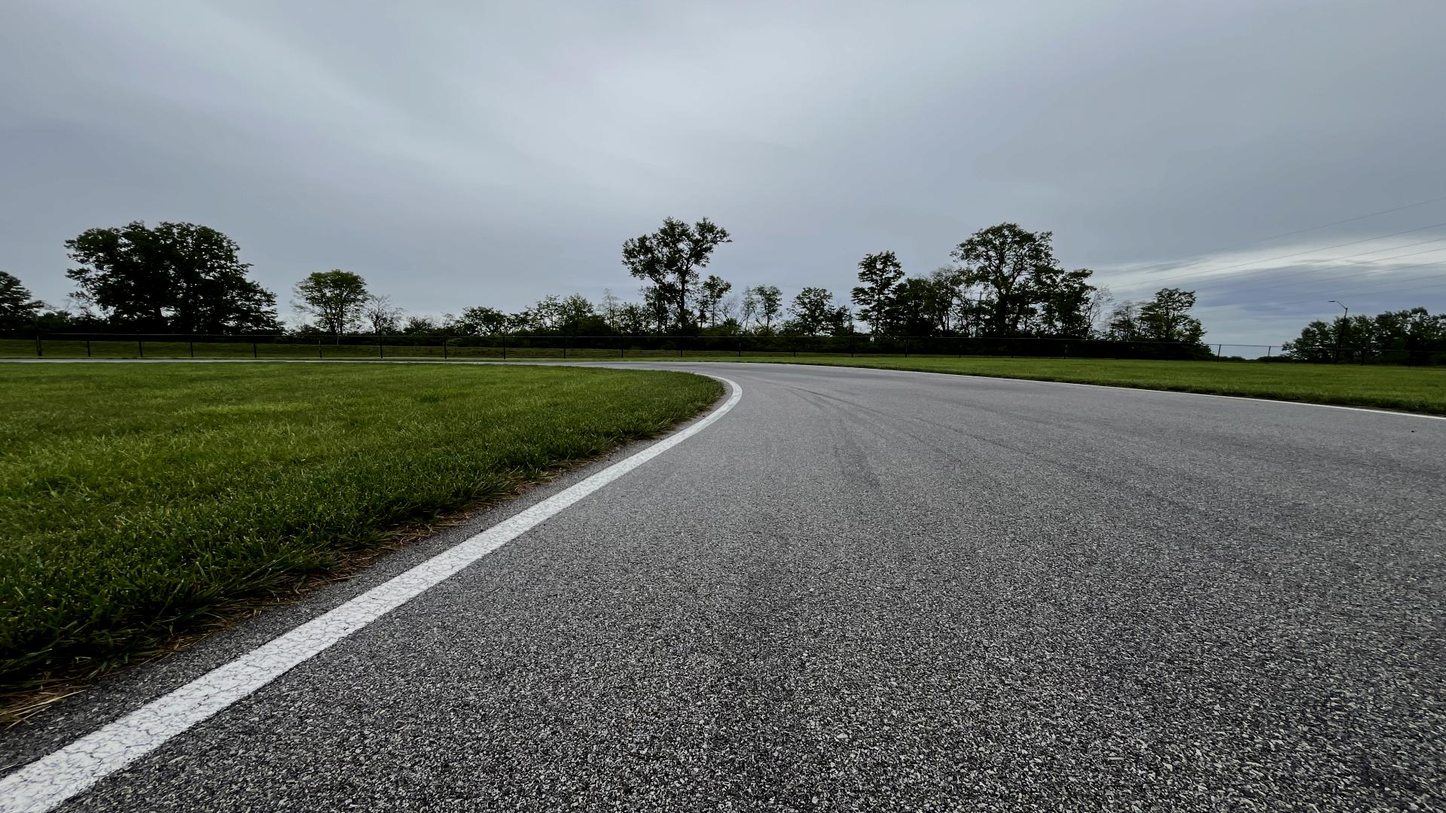white-line: (0, 419, 716, 812), (1323, 406, 1445, 419)
